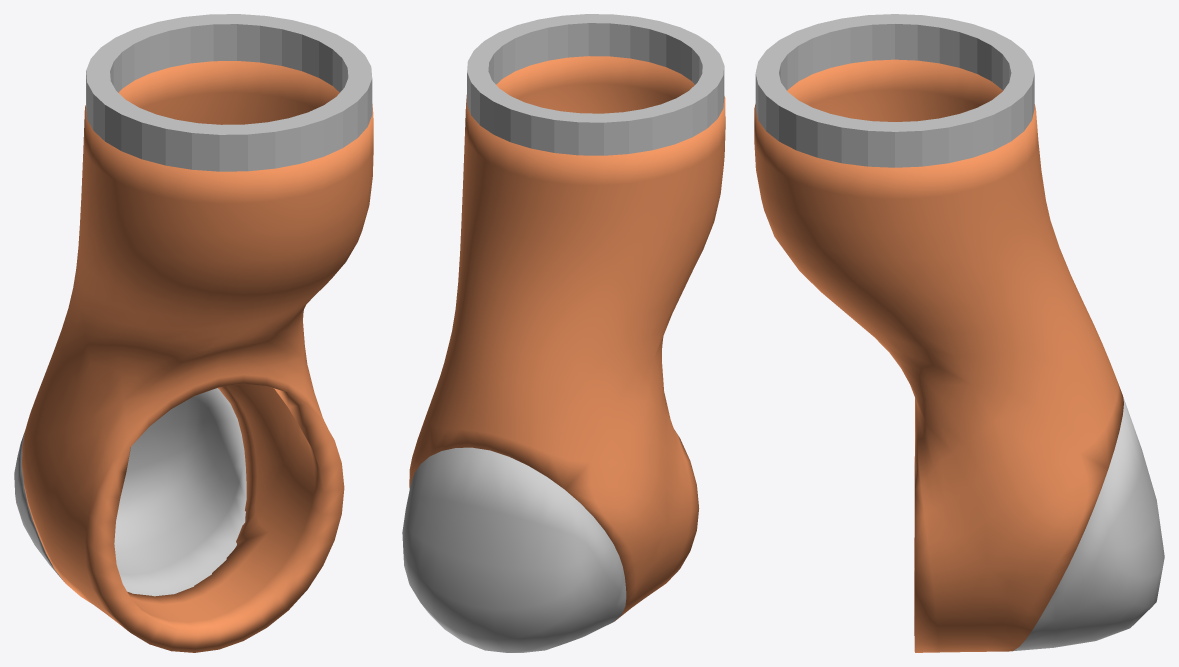
File: arm_seg_4.dae
3 renders of one model, left to right at view 1: azimuth 30°, elevation 25°; view 2: azimuth 150°, elevation 25°; view 3: azimuth 270°, elevation 25°, orthographic. The views are drawn at different scales.
Parts seen in each view (by area): view 1: arm_seg_4; view 2: arm_seg_4; view 3: arm_seg_4.
Boxes of the visible parts, x1,y1,x2,y2 form: arm_seg_4: (14,14,373,652); arm_seg_4: (402,14,725,652); arm_seg_4: (754,14,1164,652).
Bounding box in the file's own units: 0.124 × 0.1765 × 0.2691.
